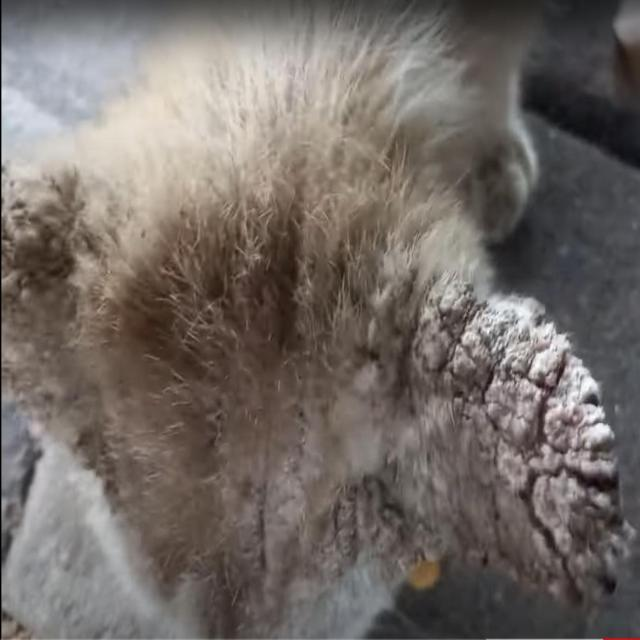ghe: (312, 199, 627, 619)
